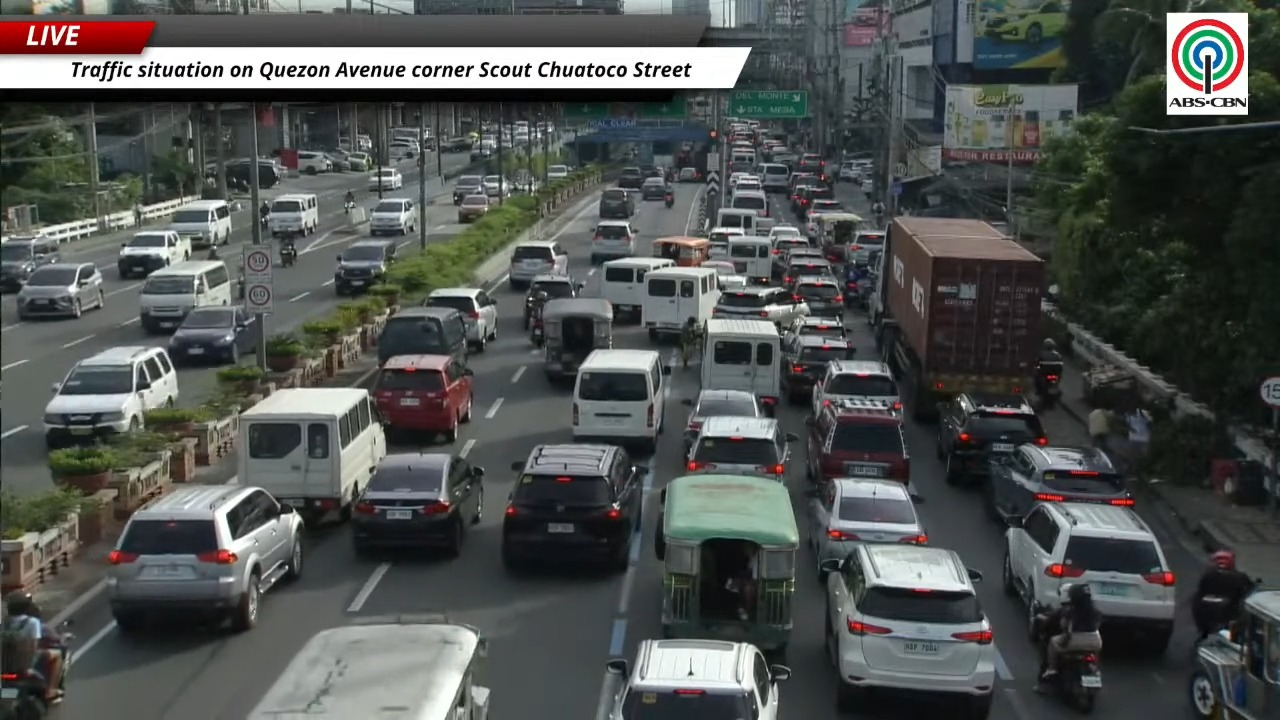car: (820, 543, 996, 719), (105, 484, 303, 632), (1003, 503, 1175, 654), (501, 444, 647, 571), (605, 639, 790, 719), (350, 452, 484, 556), (43, 346, 178, 448), (987, 443, 1134, 517), (806, 478, 927, 565), (937, 393, 1046, 484), (371, 354, 473, 441), (805, 399, 909, 484), (686, 416, 798, 482), (682, 389, 764, 454), (16, 262, 105, 320), (781, 334, 855, 403), (811, 360, 901, 415), (168, 307, 256, 363), (424, 288, 497, 351), (982, 0, 1067, 46), (712, 285, 807, 326), (117, 230, 190, 278), (0, 235, 59, 292), (334, 240, 391, 295), (523, 275, 581, 329), (508, 240, 567, 290), (770, 235, 824, 280), (790, 273, 843, 316), (590, 220, 638, 264), (782, 253, 835, 288), (369, 199, 418, 236), (805, 199, 845, 243), (784, 316, 846, 344), (795, 184, 834, 222), (845, 231, 885, 266), (789, 175, 820, 219), (598, 188, 635, 219), (457, 193, 492, 223), (452, 175, 484, 204), (296, 151, 333, 174), (368, 167, 402, 191), (640, 177, 669, 200), (616, 167, 646, 189), (389, 139, 420, 160), (768, 225, 802, 243), (483, 175, 510, 197), (788, 172, 816, 193), (837, 160, 862, 183), (733, 175, 763, 194), (798, 154, 825, 175), (346, 152, 372, 171), (547, 164, 569, 181), (677, 167, 700, 181)
motorcycle: (1041, 651, 1102, 713), (1043, 652, 1102, 713), (0, 668, 50, 719), (1193, 595, 1234, 635), (1034, 360, 1064, 407), (530, 305, 544, 347), (280, 240, 297, 266), (530, 317, 544, 346), (236, 274, 246, 300), (664, 192, 673, 208), (344, 200, 354, 214), (260, 214, 269, 229)
truck: (872, 216, 1045, 421)
